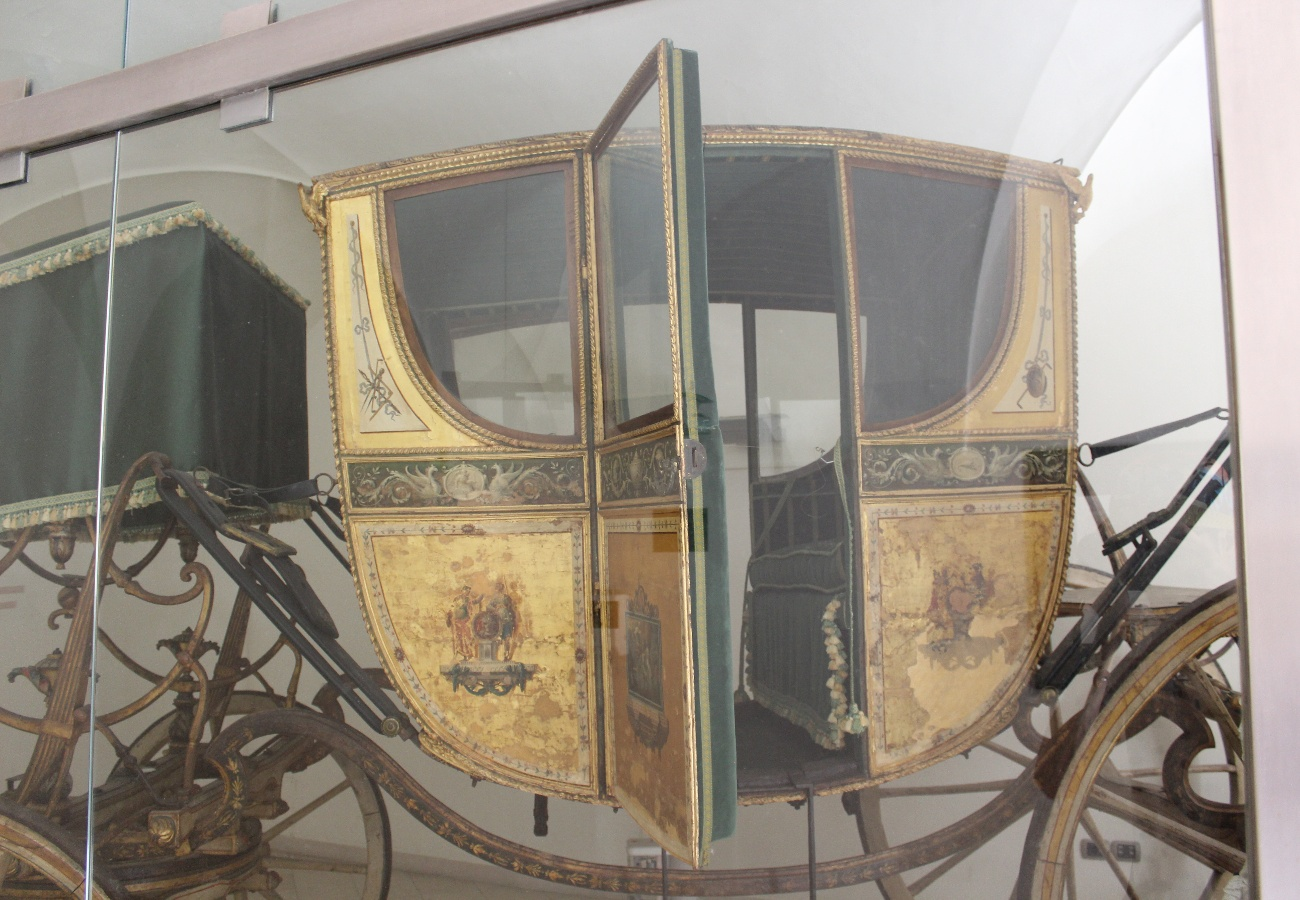Berlina Mosca: (1, 35, 1300, 900)
